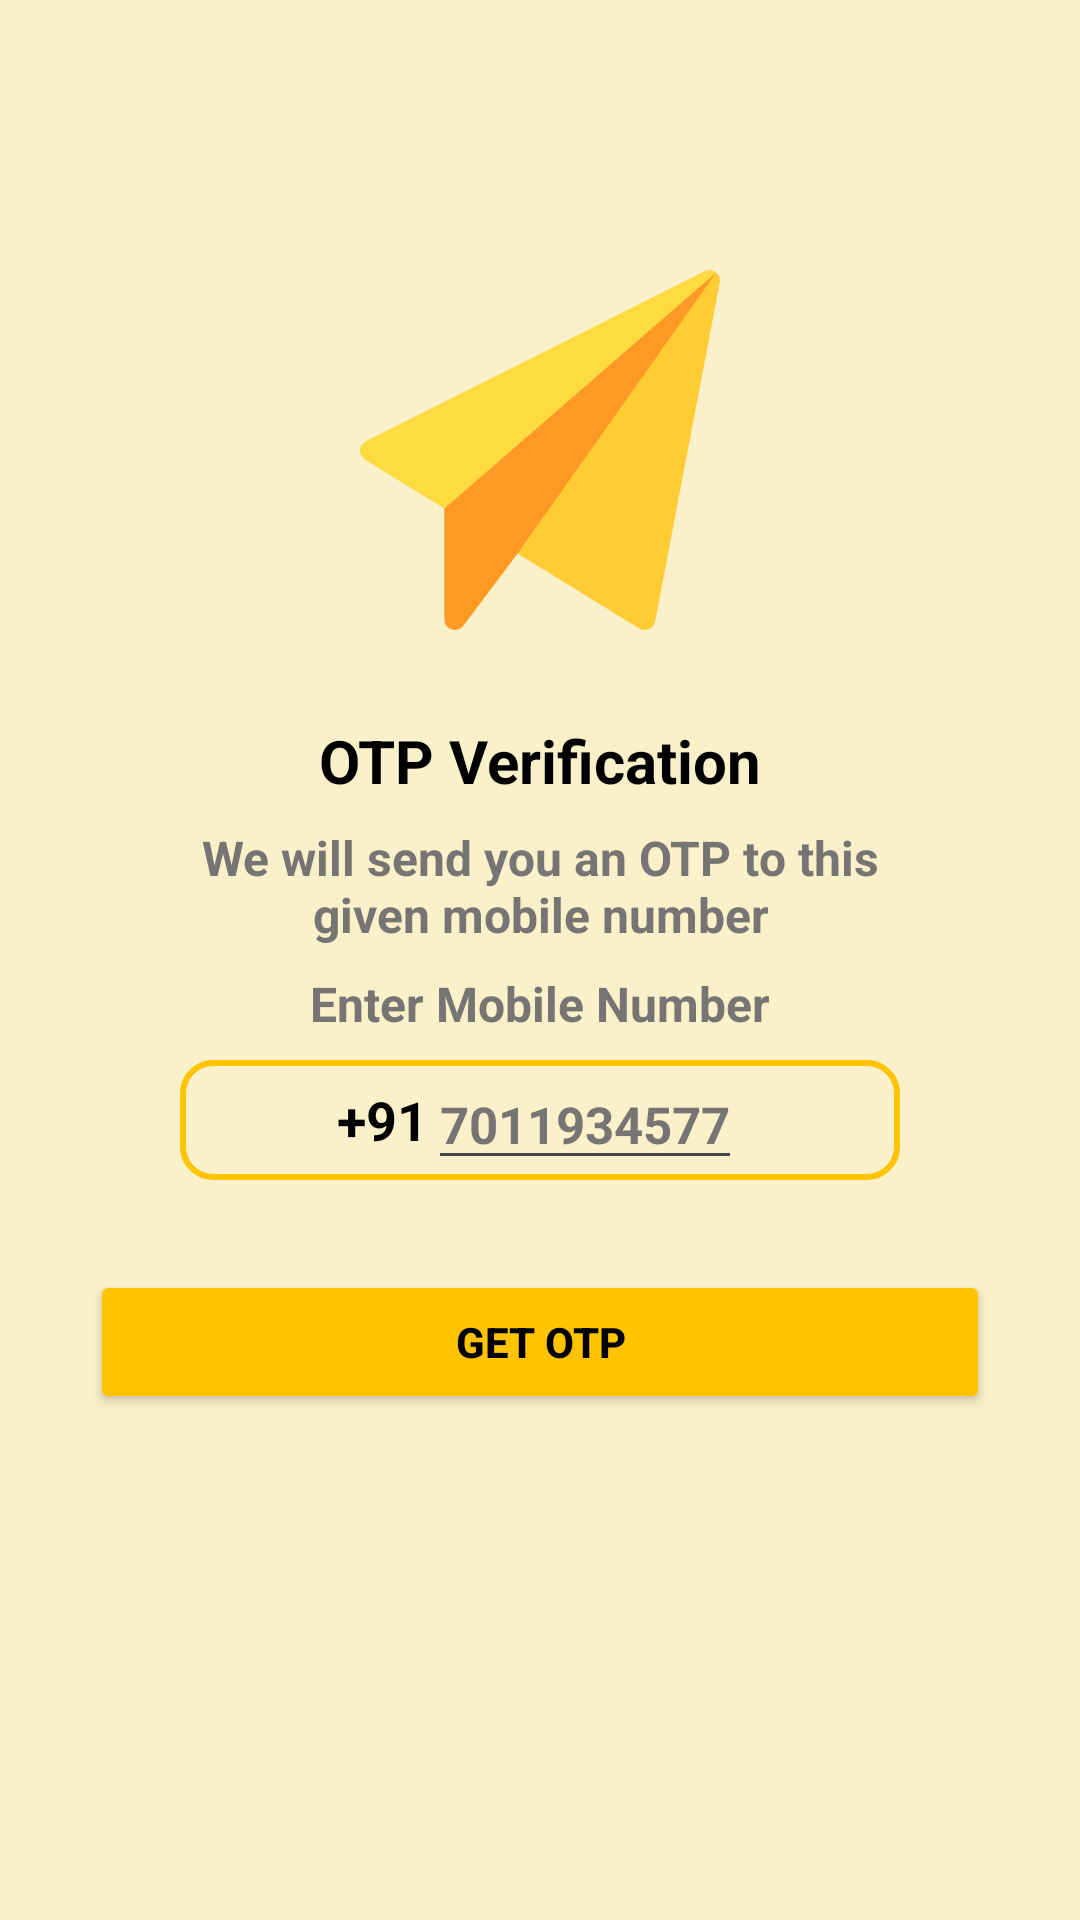

Icons on this 1080x1920 Android screen, each with the point to tap as point (x, y):
send mail: point (540, 450)
